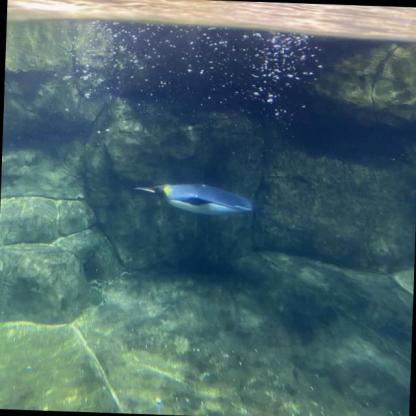penguin: (132, 182, 263, 216)
